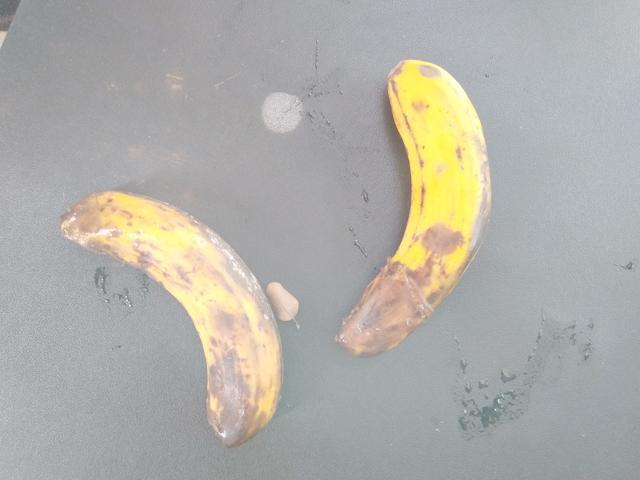rotten: (51, 176, 289, 475), (336, 33, 502, 362)
